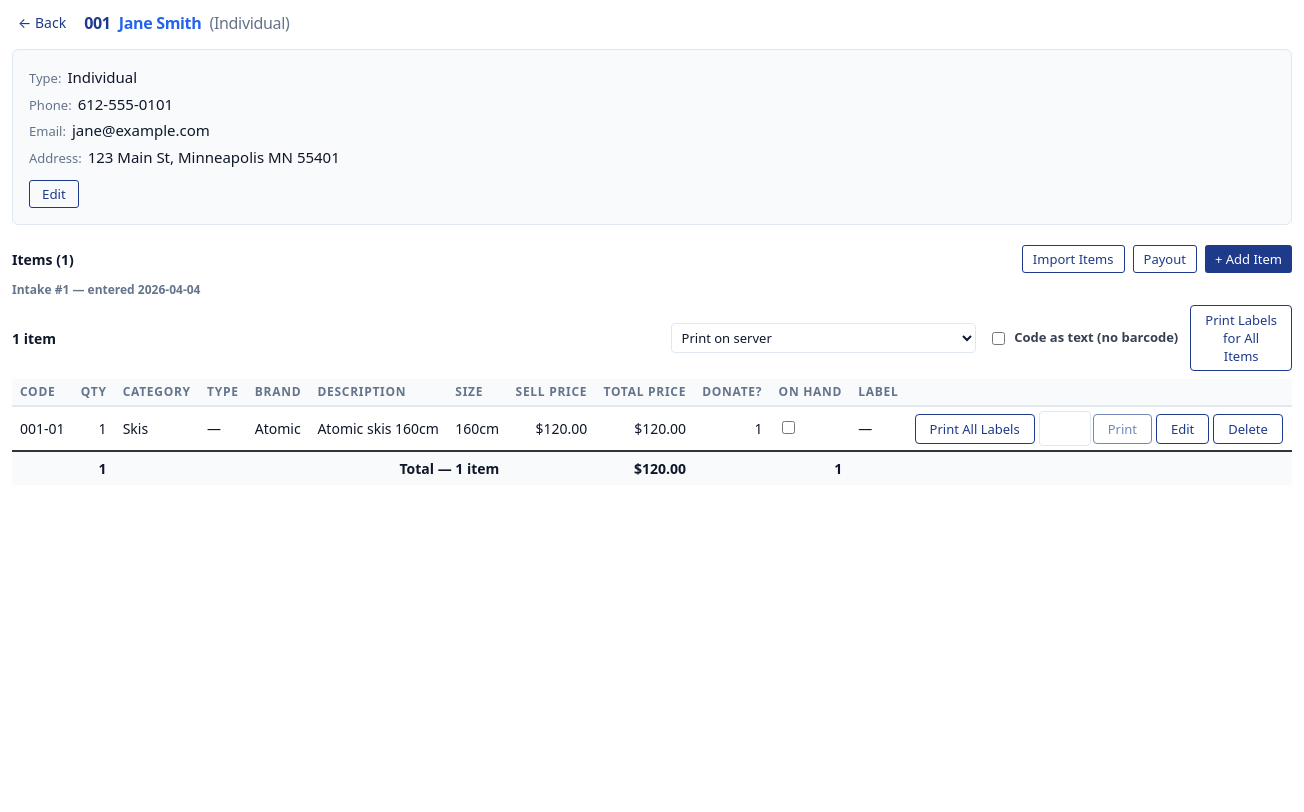
Test: SellerDetailPage › clicking item Edit opens panel with pre-filled description and price
expect the text "001-01" is shown: met, box 12,406 -> 73,451
What coordinates should you click on to do the following:
click the button "Edit" in the row of "001-01"
I would click on:
 (1183, 429)
Its box is 1156,414 -> 1209,444.
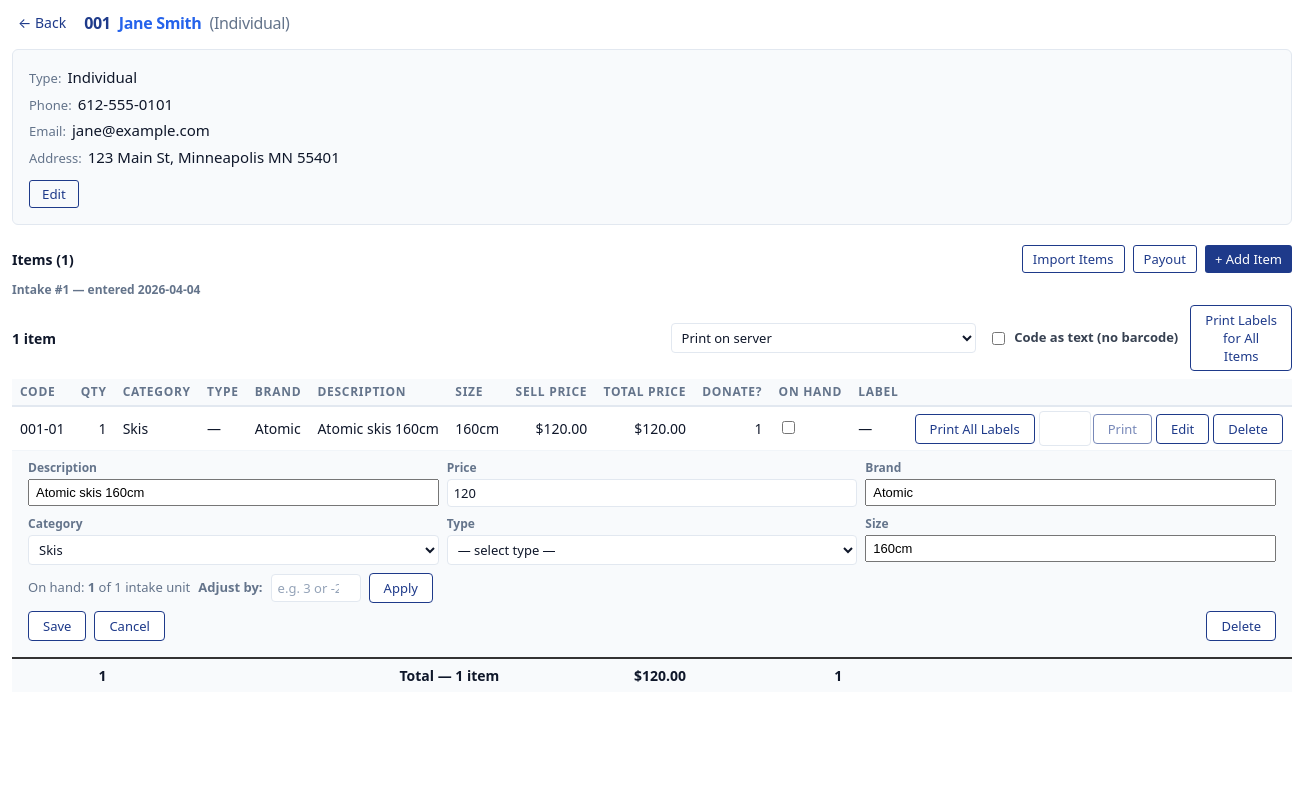
expect the 1st field showing "Atomic skis 160cm" is shown: met, box 28,479 -> 439,506
expect the number field showing "120" is shown: met, box 447,479 -> 857,507
